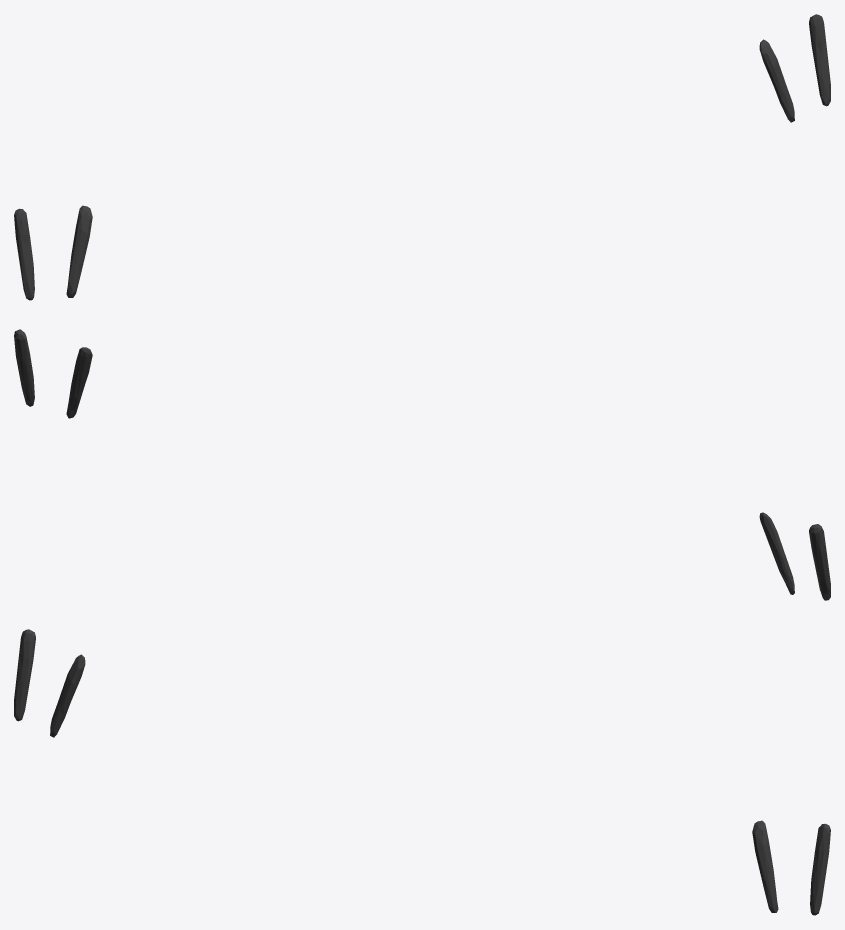
The model's file is lig_axial_plantar_HL.glb.
3 views of the same model, one above another, from view 1: azimuth 30°, elevation 25°; view 2: azimuth 150°, elevation 25°; view 3: azimuth 330°, elevation 25° (orthographic).
Visible parts, largest first — view 1: lig_axial_plantar_HL; view 2: lig_axial_plantar_HL; view 3: lig_axial_plantar_HL.
Boxes of the visible parts, x1=… form: lig_axial_plantar_HL: x1=14, y1=14, x2=830, y2=300; lig_axial_plantar_HL: x1=14, y1=329, x2=830, y2=600; lig_axial_plantar_HL: x1=14, y1=629, x2=830, y2=915.
Bounding box in the file's own units: 0.00526 × 0.000551 × 0.000202.
1 material, 1 textured.
